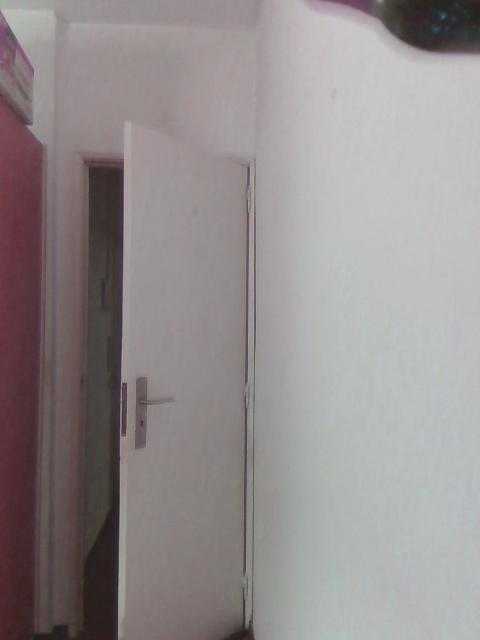semi_door: (53, 114, 263, 639)
